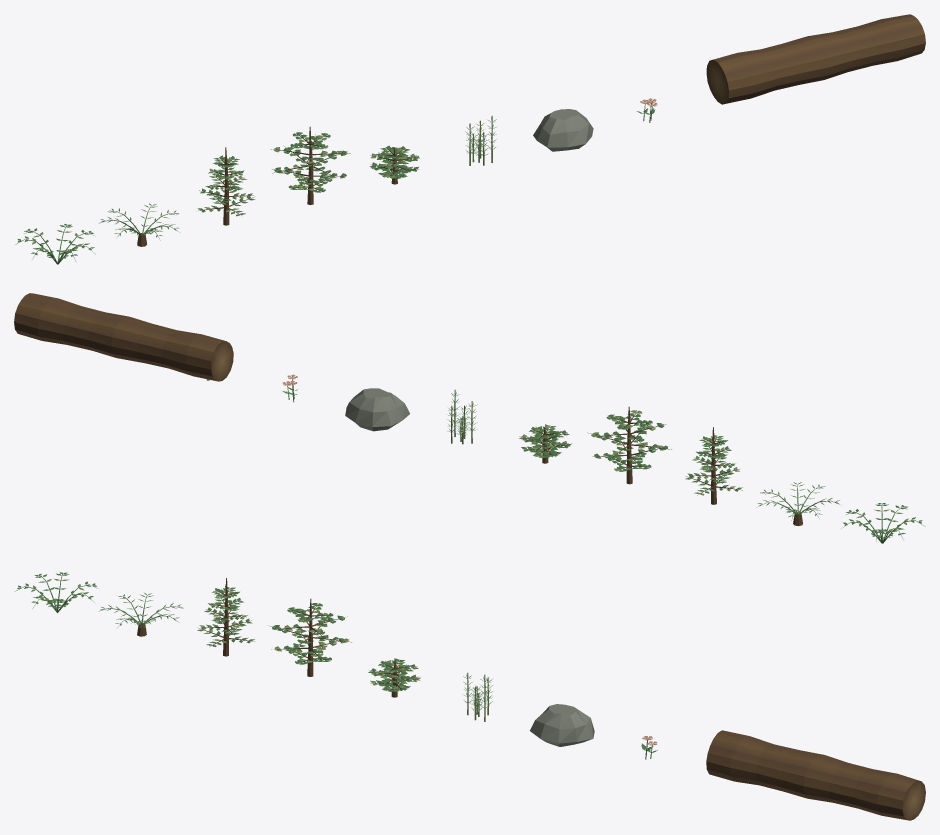
The model's file is prehistoric-botany.glb.
3 renders of one model, top to bottom at view 1: azimuth 30°, elevation 25°; view 2: azimuth 150°, elevation 25°; view 3: azimuth 330°, elevation 25°, orthographic.
Visible parts, largest first — view 1: log_LOD0.002, ginkgo_LOD0.007, rock_LOD0.007, conifer_LOD0.007, shrub_LOD0.007, fern_LOD0.007, cycad_LOD0.007, horsetail_LOD0.007; view 2: log_LOD0.002, ginkgo_LOD0.007, rock_LOD0.007, conifer_LOD0.007, shrub_LOD0.007, fern_LOD0.007, cycad_LOD0.007, horsetail_LOD0.007; view 3: log_LOD0.002, ginkgo_LOD0.007, rock_LOD0.007, conifer_LOD0.007, shrub_LOD0.007, fern_LOD0.007, cycad_LOD0.007, horsetail_LOD0.007.
Boxes of the visible parts, box(x1,y1,x2,y2) form: log_LOD0.002: box(706, 14, 925, 104); ginkgo_LOD0.007: box(271, 126, 350, 204); rock_LOD0.007: box(533, 109, 593, 151); conifer_LOD0.007: box(197, 147, 255, 225); shrub_LOD0.007: box(369, 145, 419, 184); fern_LOD0.007: box(15, 224, 95, 264); cycad_LOD0.007: box(99, 203, 179, 246); horsetail_LOD0.007: box(465, 115, 496, 165); log_LOD0.002: box(14, 293, 233, 381); ginkgo_LOD0.007: box(587, 406, 671, 484); rock_LOD0.007: box(345, 388, 409, 431); conifer_LOD0.007: box(685, 427, 742, 504); shrub_LOD0.007: box(519, 424, 571, 463); fern_LOD0.007: box(841, 503, 925, 543); cycad_LOD0.007: box(756, 482, 841, 525); horsetail_LOD0.007: box(447, 389, 477, 444); log_LOD0.002: box(706, 730, 925, 820); ginkgo_LOD0.007: box(270, 598, 351, 676); rock_LOD0.007: box(530, 704, 594, 746); conifer_LOD0.007: box(197, 578, 254, 656); shrub_LOD0.007: box(368, 658, 420, 697); fern_LOD0.007: box(15, 572, 97, 612); cycad_LOD0.007: box(99, 593, 183, 636); horsetail_LOD0.007: box(463, 672, 492, 721).
Bounding box in the file's own units: 31.74 × 2.65 × 2.89.
